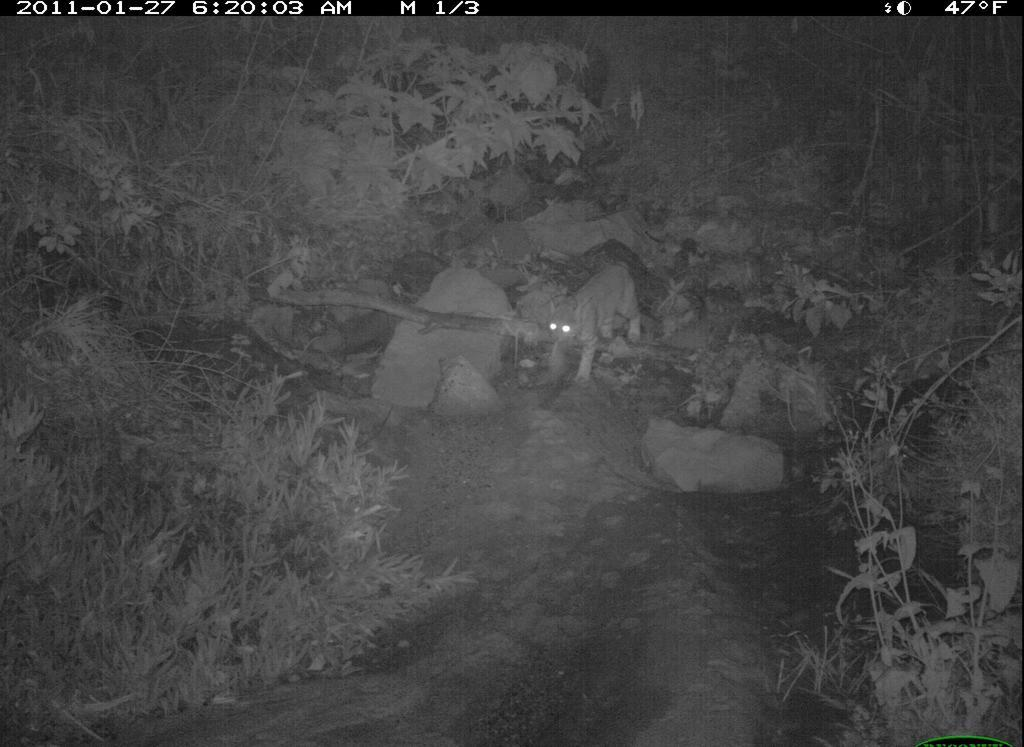bobcat: (530, 258, 647, 386)
